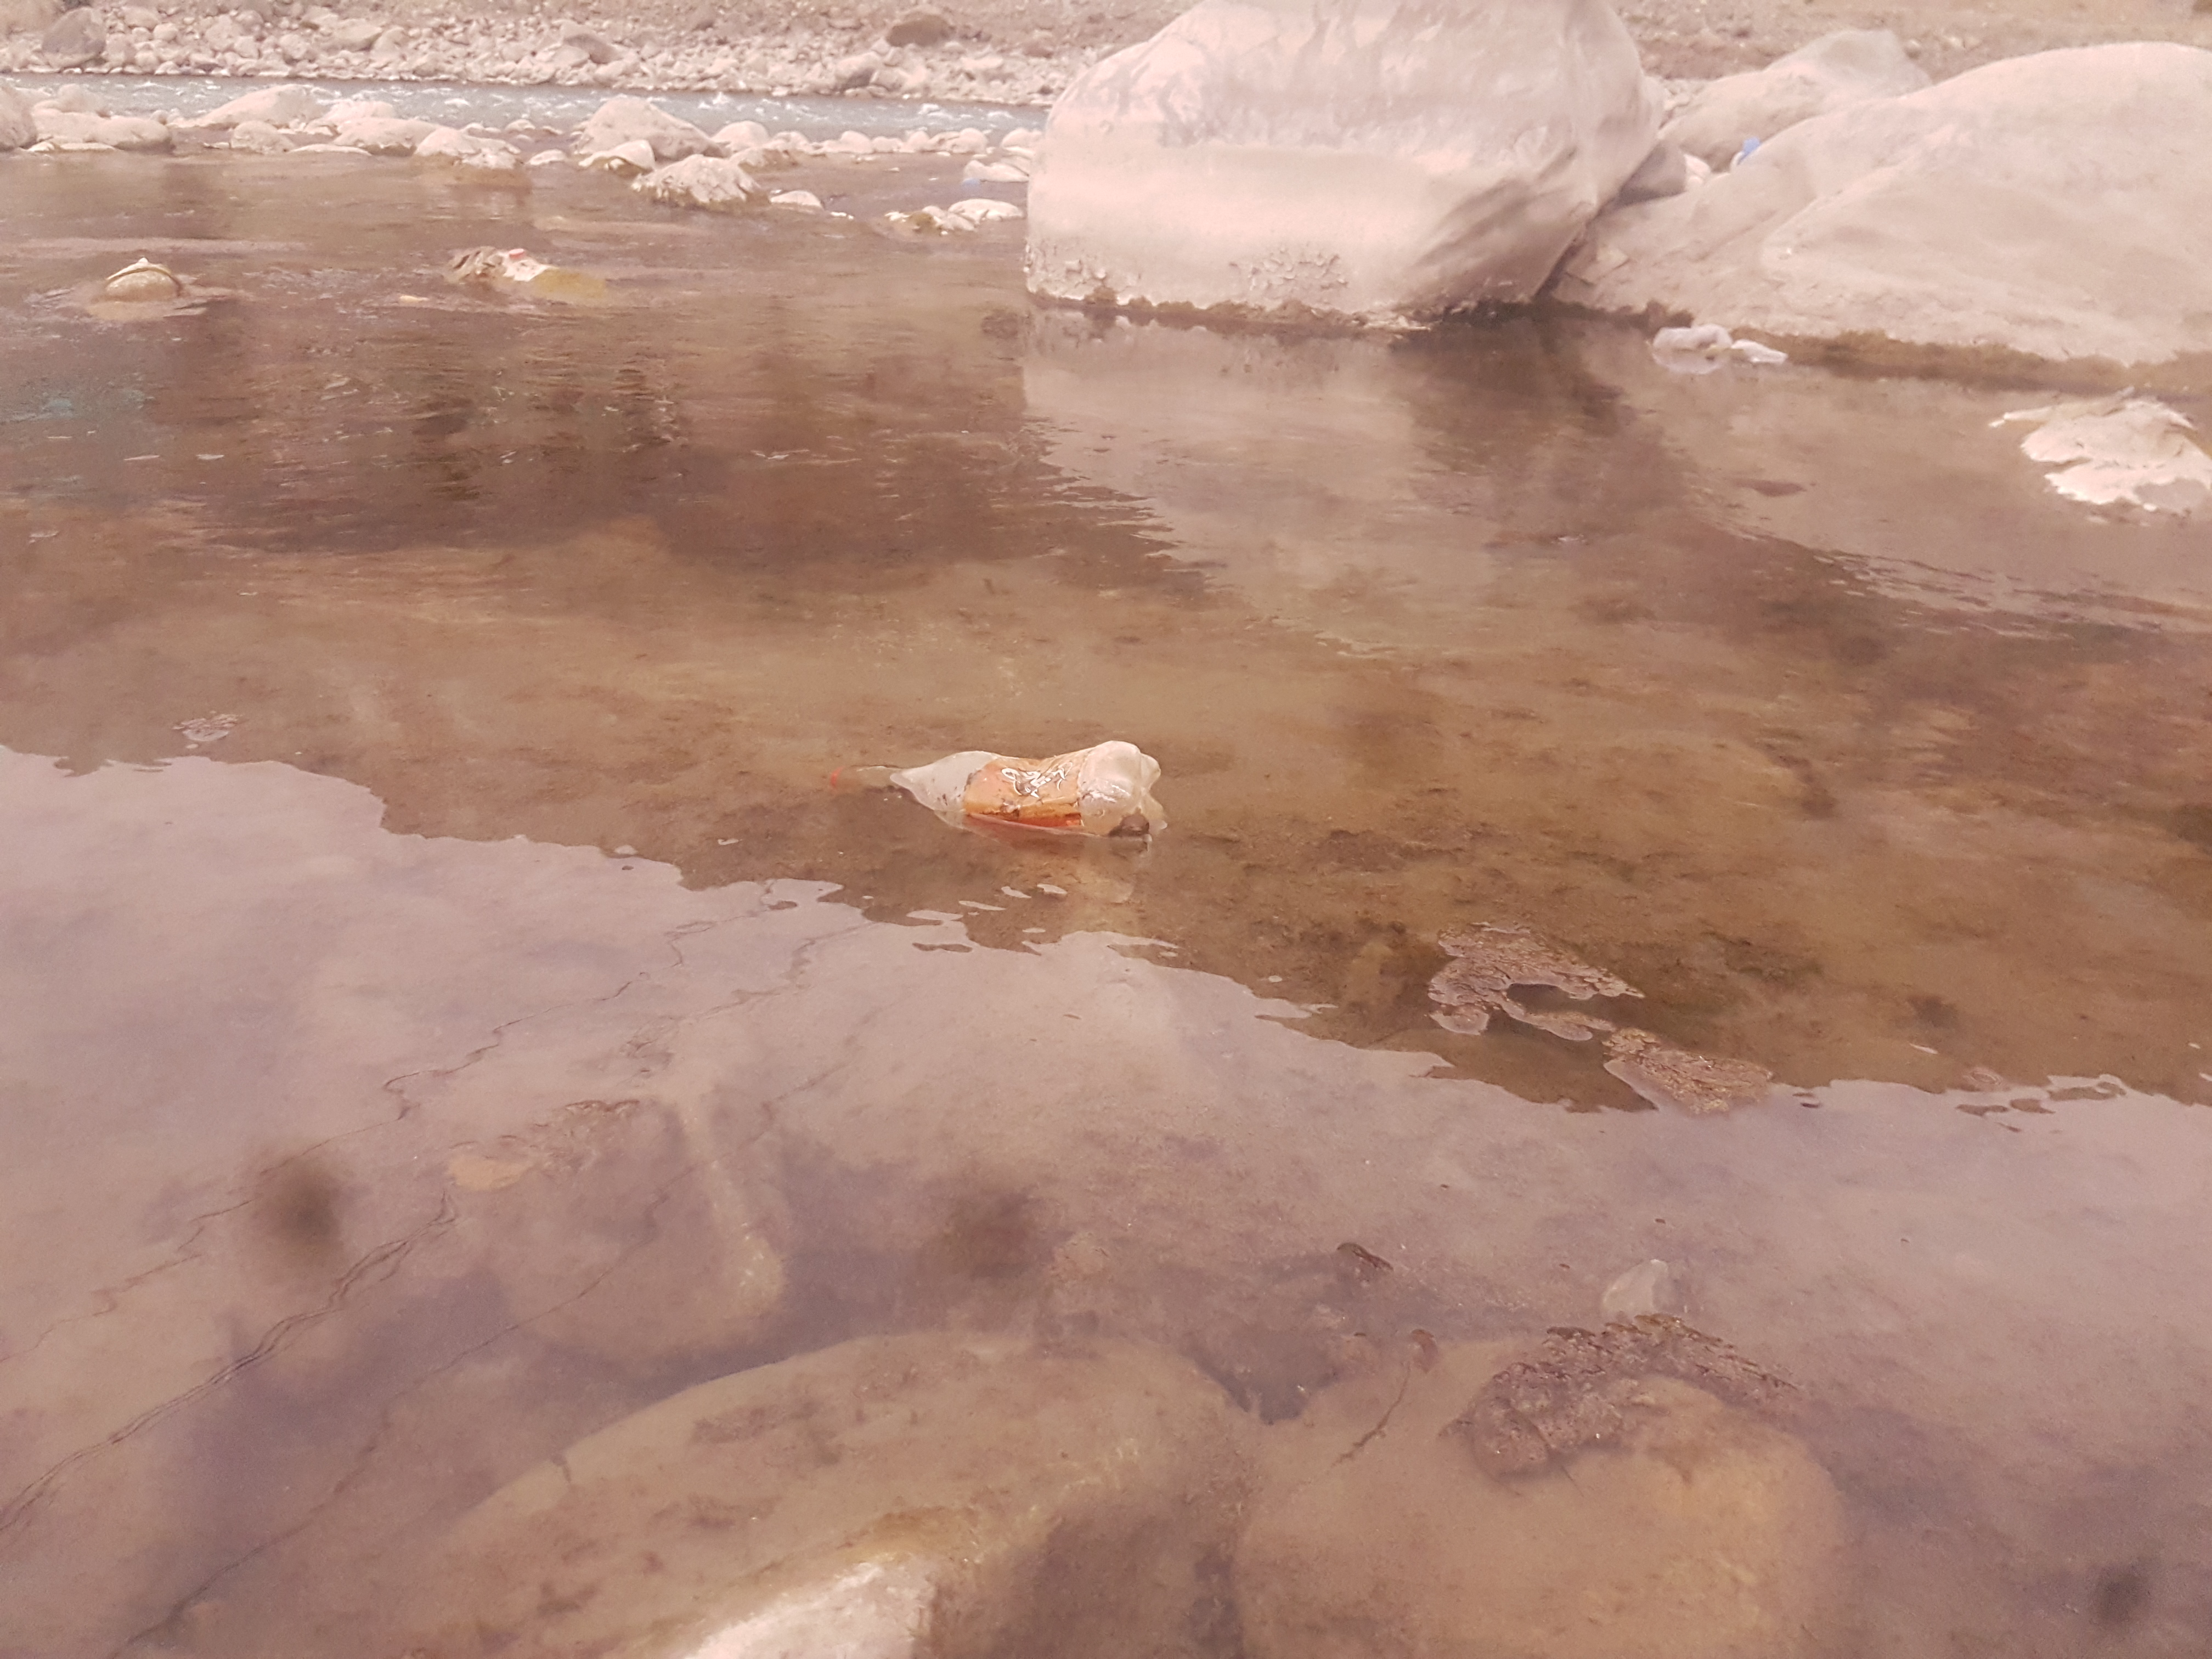Plastic Bottle: (894, 739, 1167, 845), (961, 176, 981, 185)
